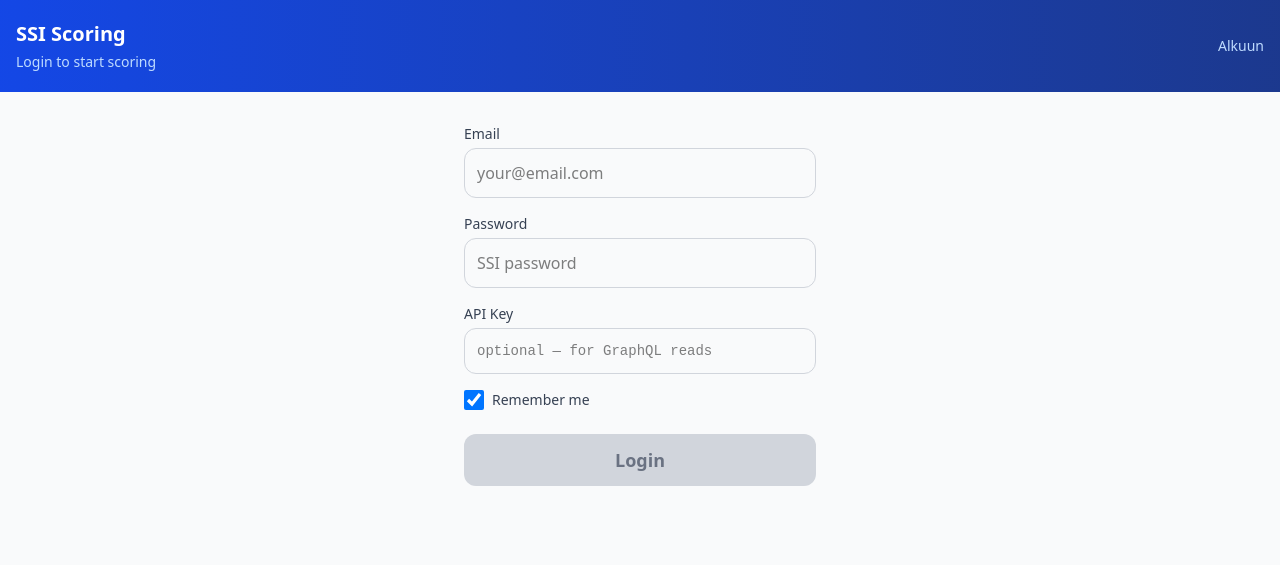
Test case: LoginScreen › shows error message on login failure
Step 1. Type "bad@test.com" into the field with placeholder "your@email.com" → [640, 173], box [464,148,816,198]
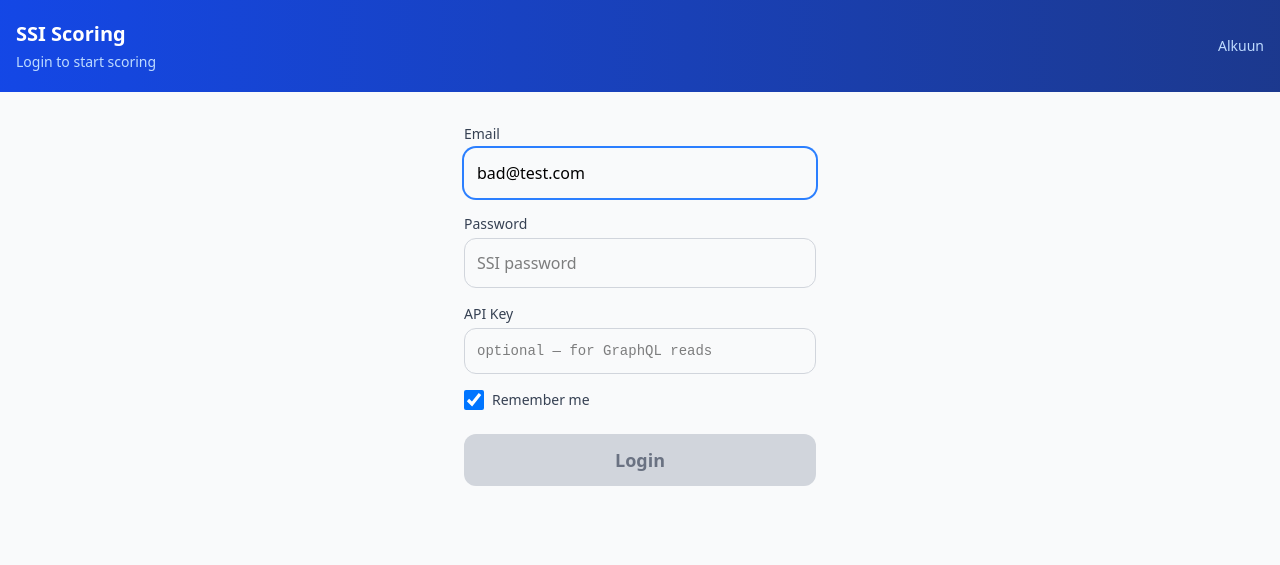
Step 2. Type "wrong" into the password field with placeholder "SSI password" → [640, 263], box [464,238,816,288]
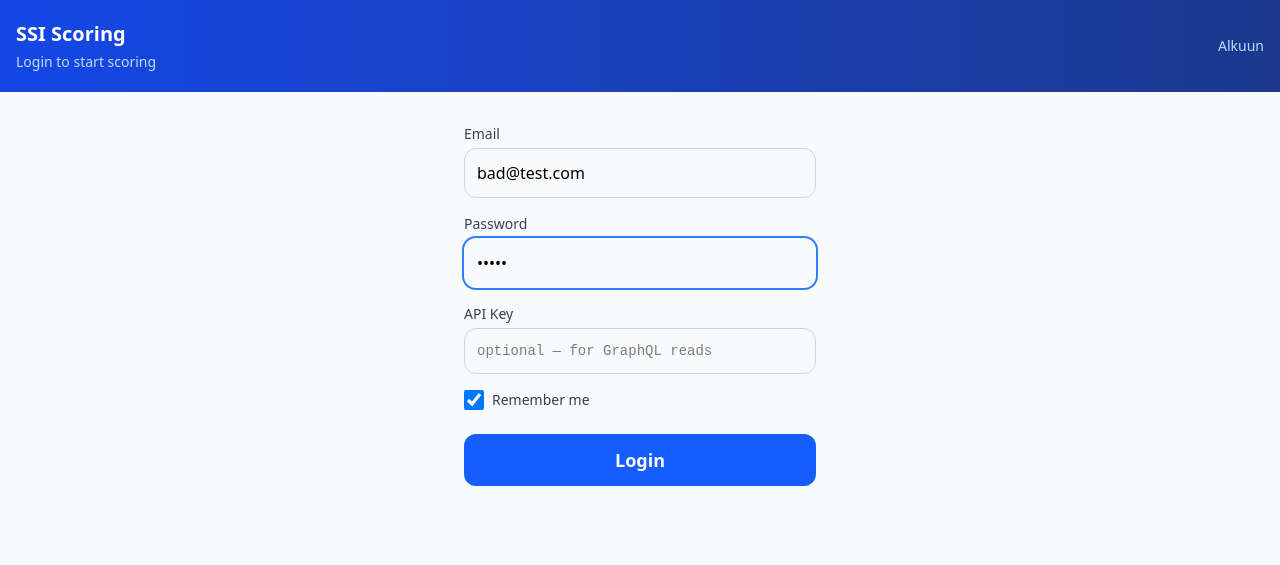
Step 3. Click the button "Login" → [640, 460], box [464,434,816,486]
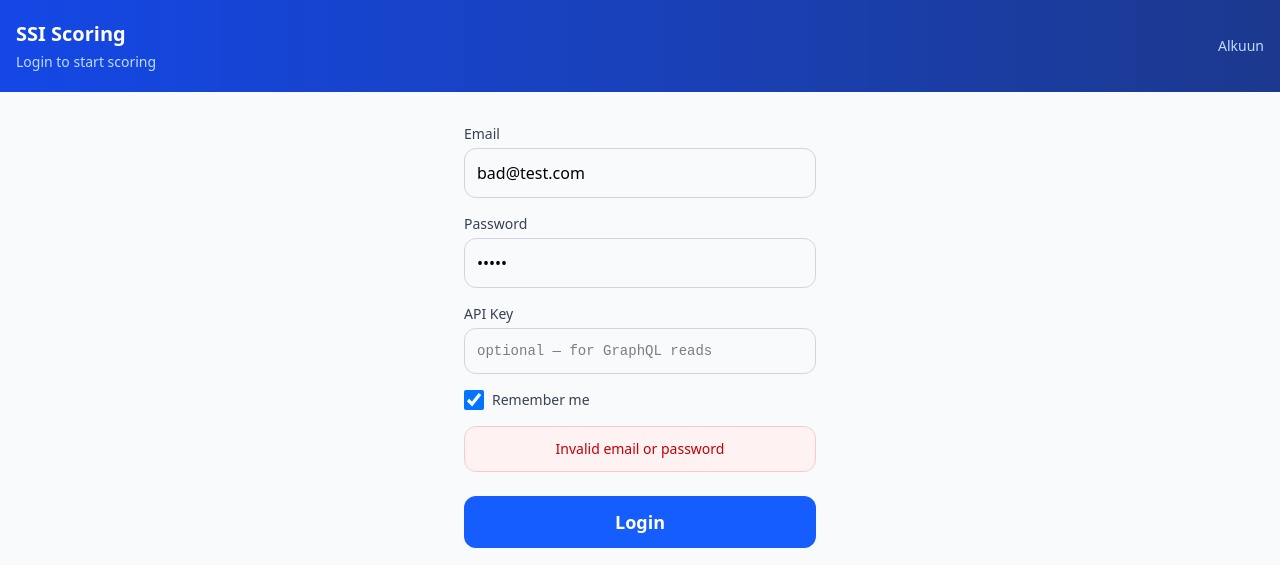
Expected: the text "Invalid email or password" is shown, [556,439,724,458]
